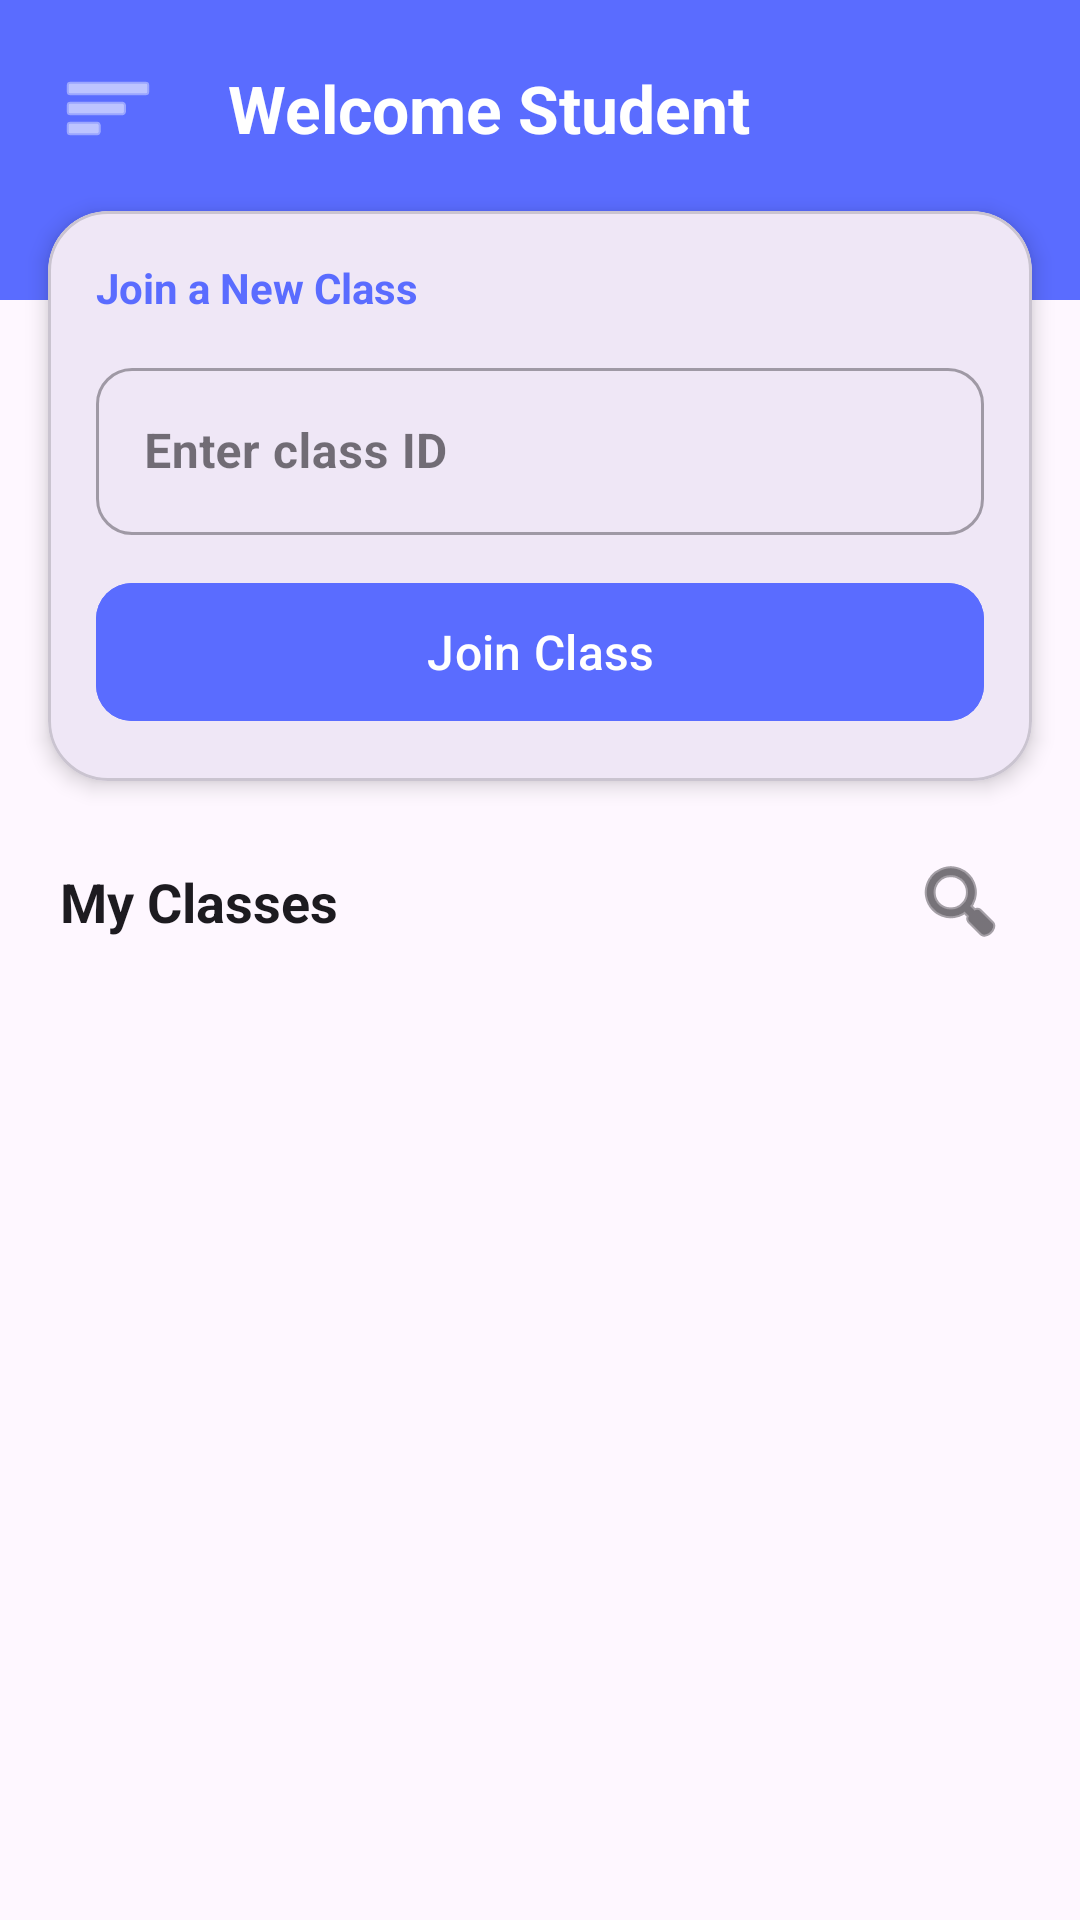

Icons on this 1080px×1920px Android screen, each with the point to tap as (x=x, y=y):
Menu: (x=108, y=108)
Search: (x=960, y=901)
